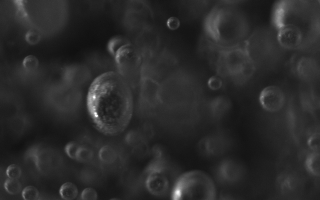bubble: (83, 71, 135, 137), (170, 169, 219, 200), (112, 42, 144, 75), (276, 24, 305, 52), (259, 86, 286, 114), (143, 171, 170, 196), (105, 36, 129, 56), (19, 53, 40, 73), (97, 144, 117, 165), (57, 181, 78, 200), (23, 28, 42, 47), (75, 145, 94, 164), (3, 176, 21, 196), (64, 141, 80, 160), (20, 185, 40, 200), (5, 163, 23, 179), (79, 187, 100, 200), (207, 75, 224, 91), (165, 15, 181, 31), (306, 134, 320, 149)
